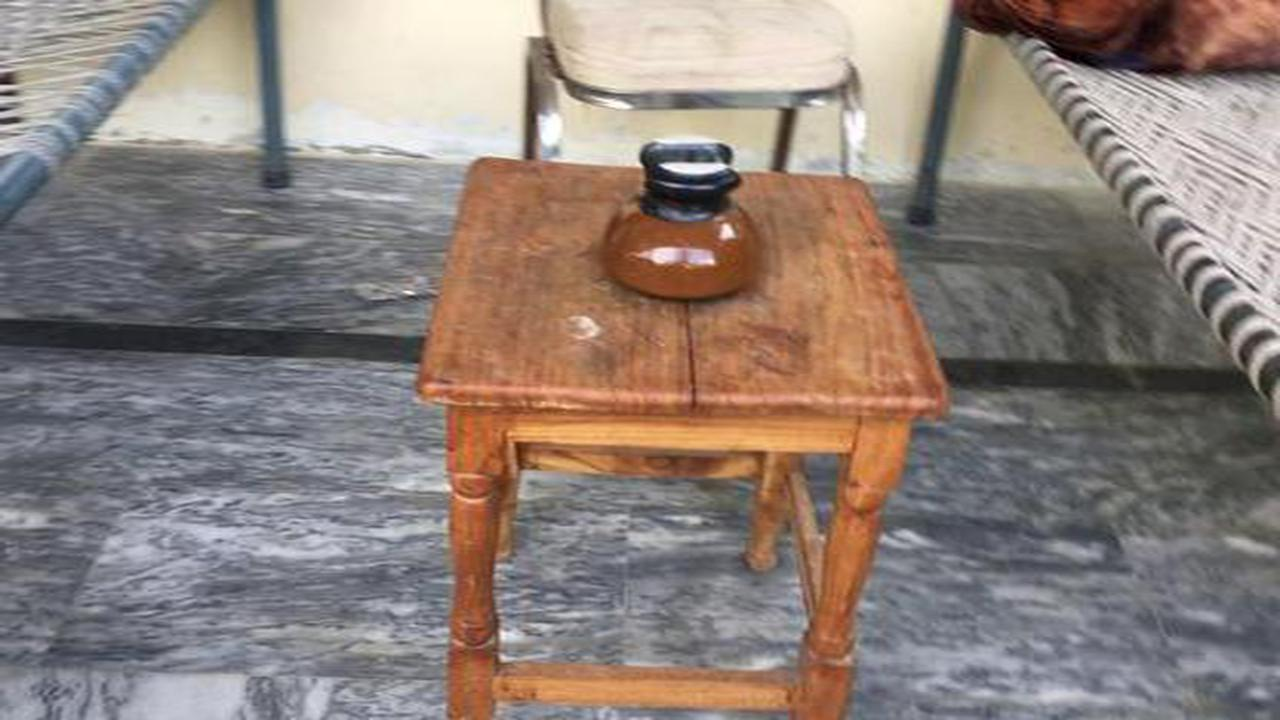insulator_pin: (573, 118, 776, 321)
